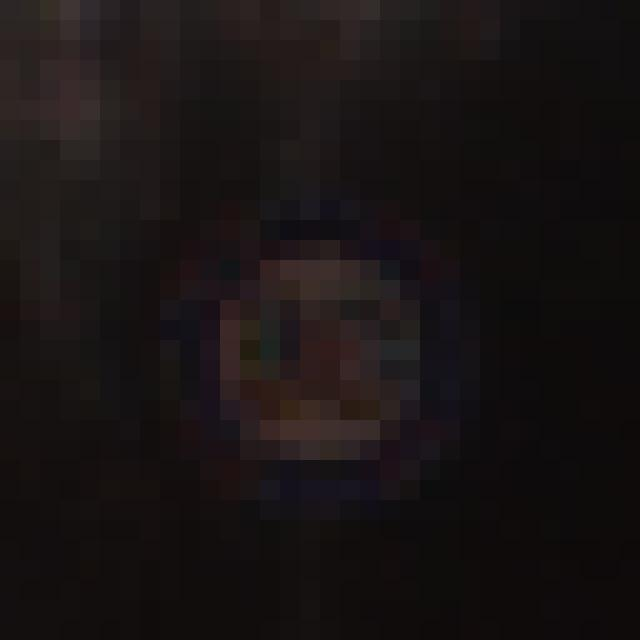SPEED-LIMIT-80: (187, 220, 461, 490)
